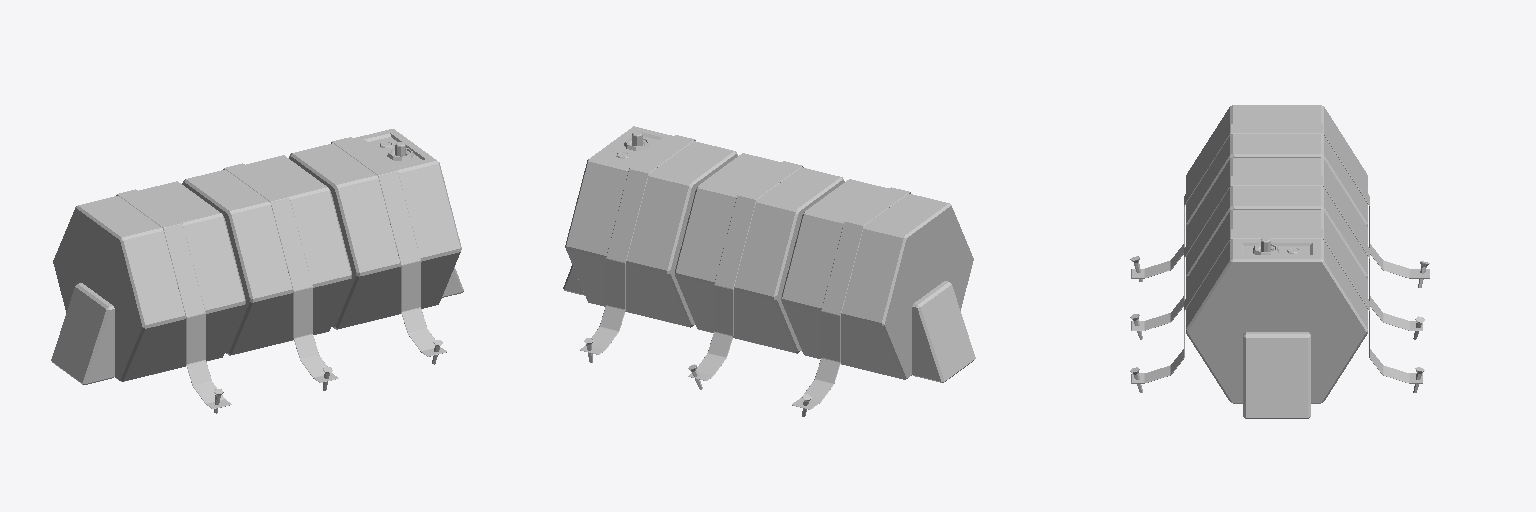
Rendered from WaterTank_Junkyard.obj.
The picture shows the model from 3 angles: view 1: azimuth 30°, elevation 25°; view 2: azimuth 150°, elevation 25°; view 3: azimuth 270°, elevation 25°; orthographic projection.
Parts seen in each view (by area): view 1: Tank_Cylinder, Straps_Cylinder.008, Kickholders_Cylinder.001; view 2: Tank_Cylinder, Straps_Cylinder.008, Kickholders_Cylinder.001; view 3: Tank_Cylinder, Straps_Cylinder.008, Kickholders_Cylinder.001.
Boxes of the visible parts, x1=… form: Tank_Cylinder: x1=53, y1=129, x2=461, y2=381; Straps_Cylinder.008: x1=116, y1=137, x2=446, y2=413; Kickholders_Cylinder.001: x1=51, y1=267, x2=463, y2=384; Tank_Cylinder: x1=565, y1=126, x2=973, y2=379; Straps_Cylinder.008: x1=580, y1=135, x2=910, y2=416; Kickholders_Cylinder.001: x1=563, y1=265, x2=975, y2=382; Tank_Cylinder: x1=1186, y1=105, x2=1367, y2=403; Straps_Cylinder.008: x1=1130, y1=124, x2=1429, y2=392; Kickholders_Cylinder.001: x1=1243, y1=332, x2=1310, y2=418.
Bounding box in the file's own units: 4.78 × 2.01 × 3.25.